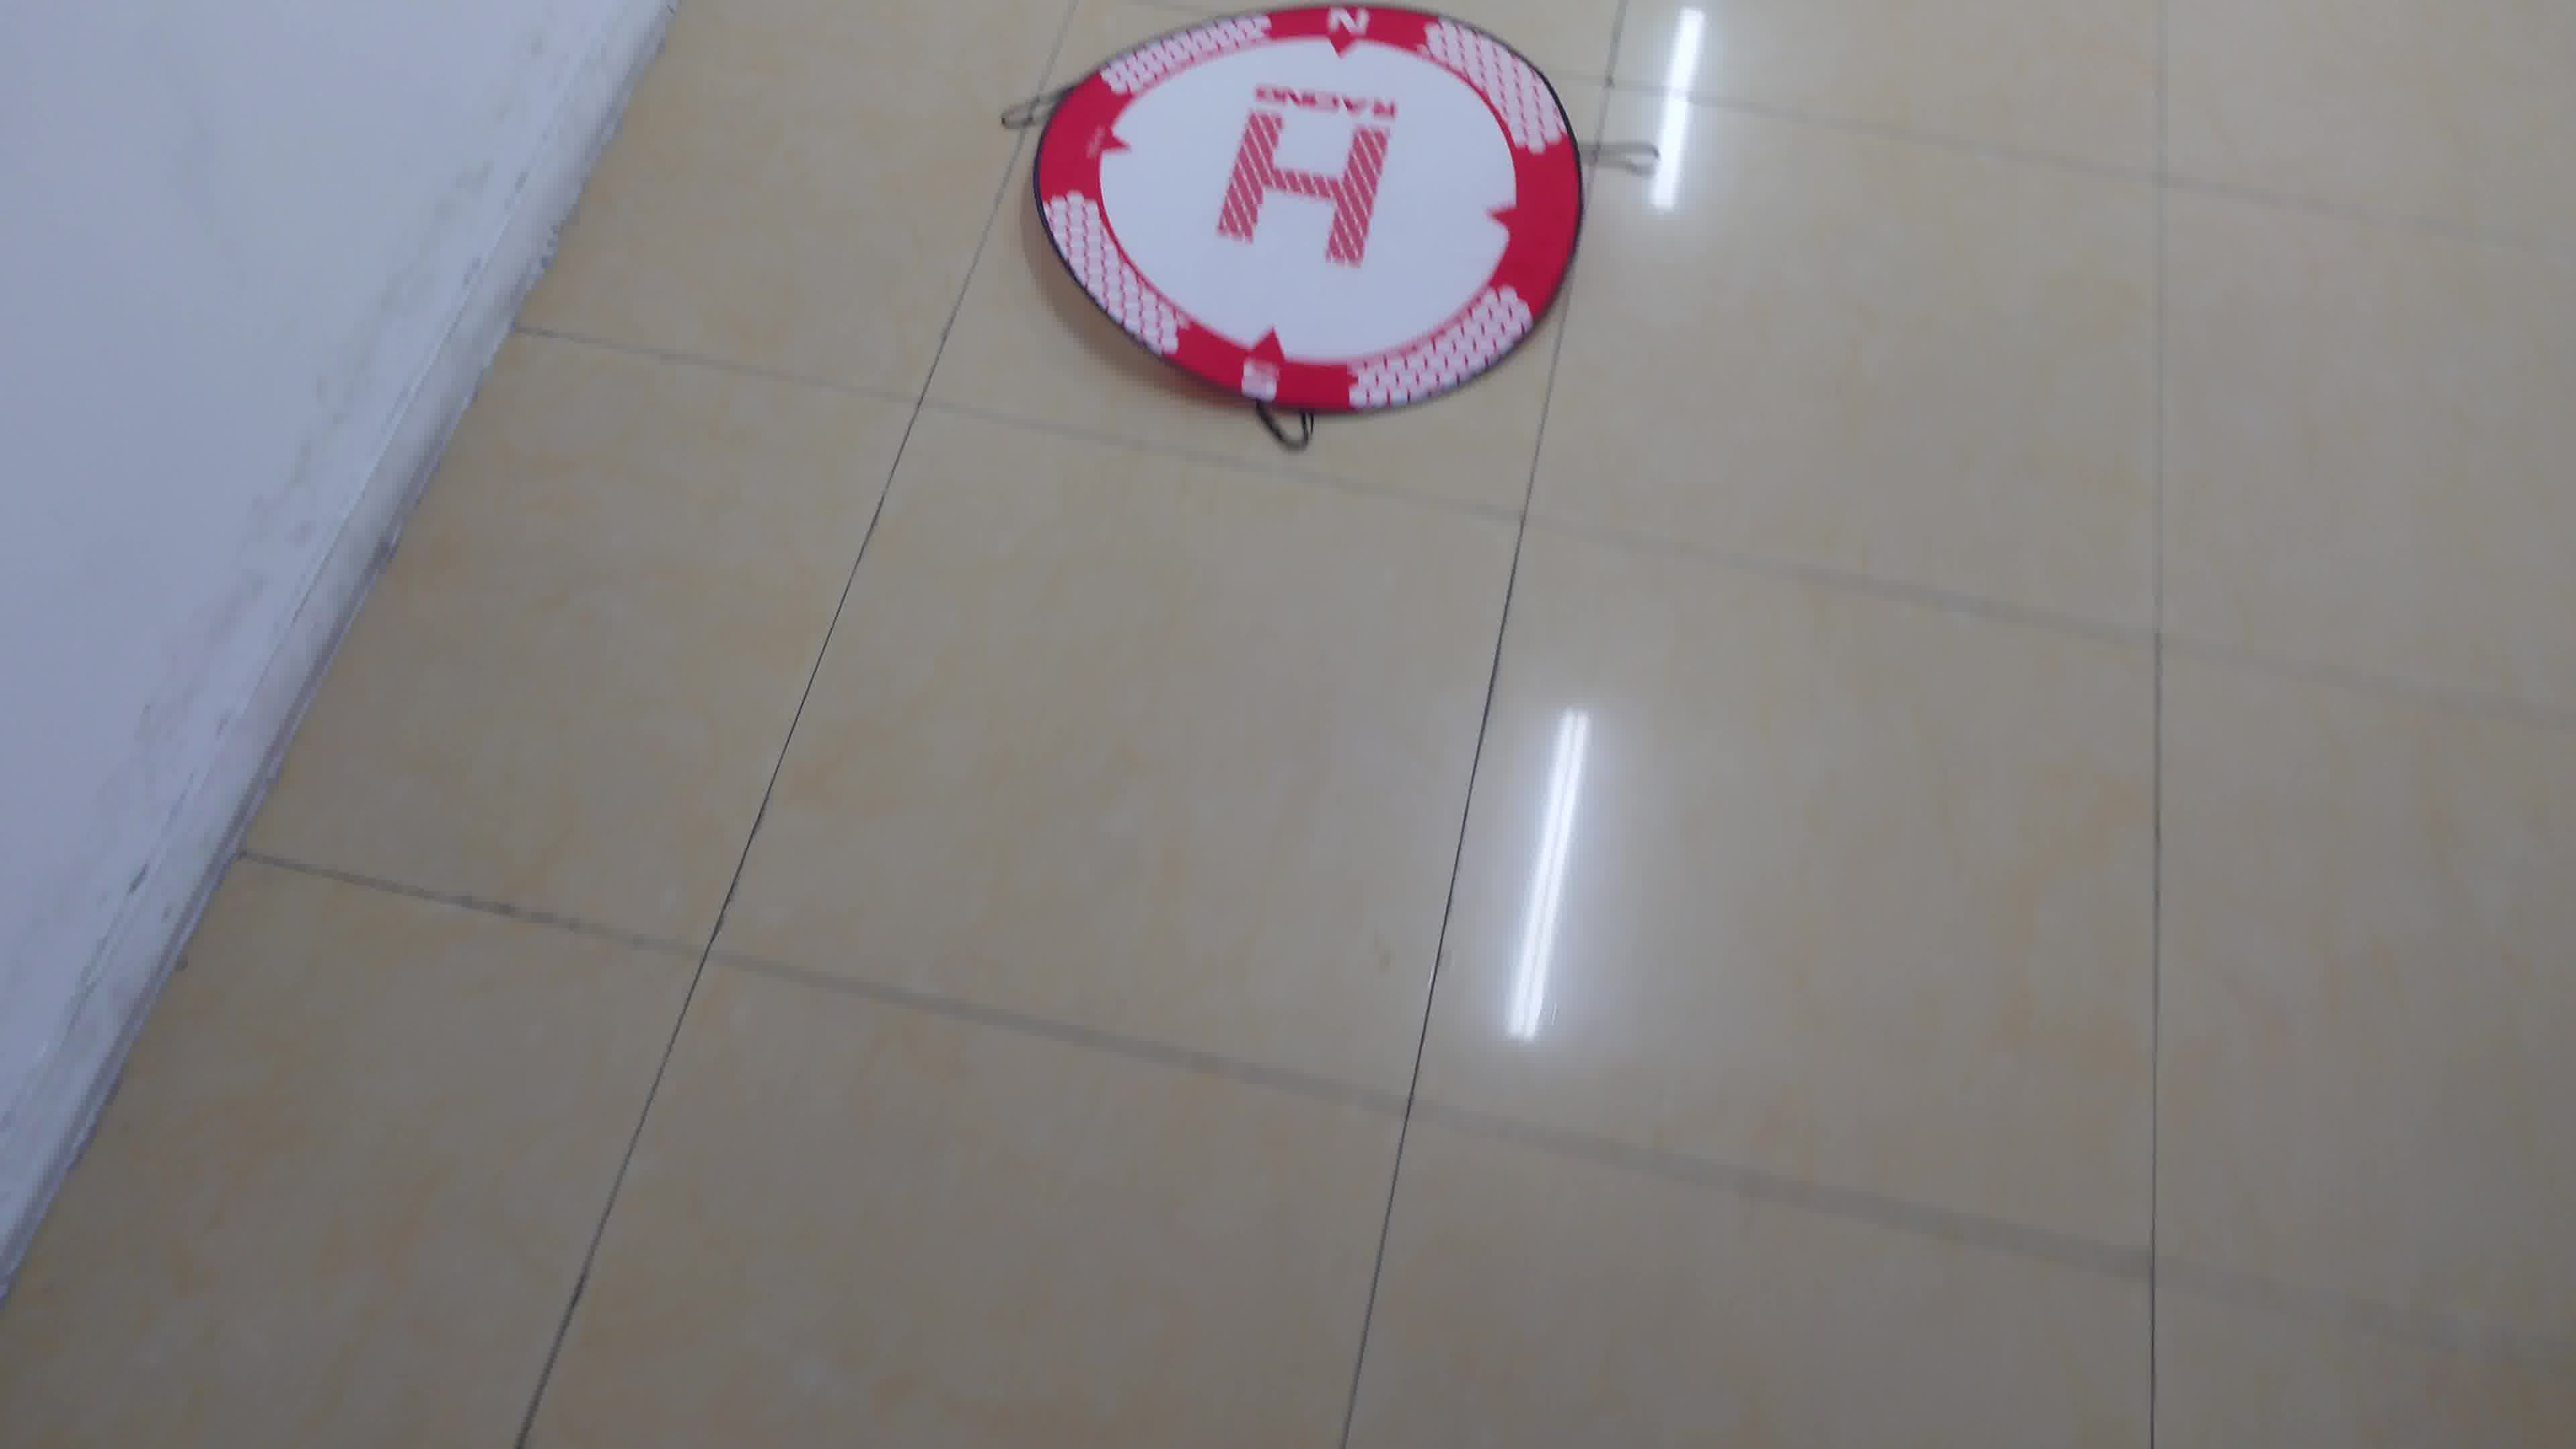H: (1215, 110, 1392, 269)
